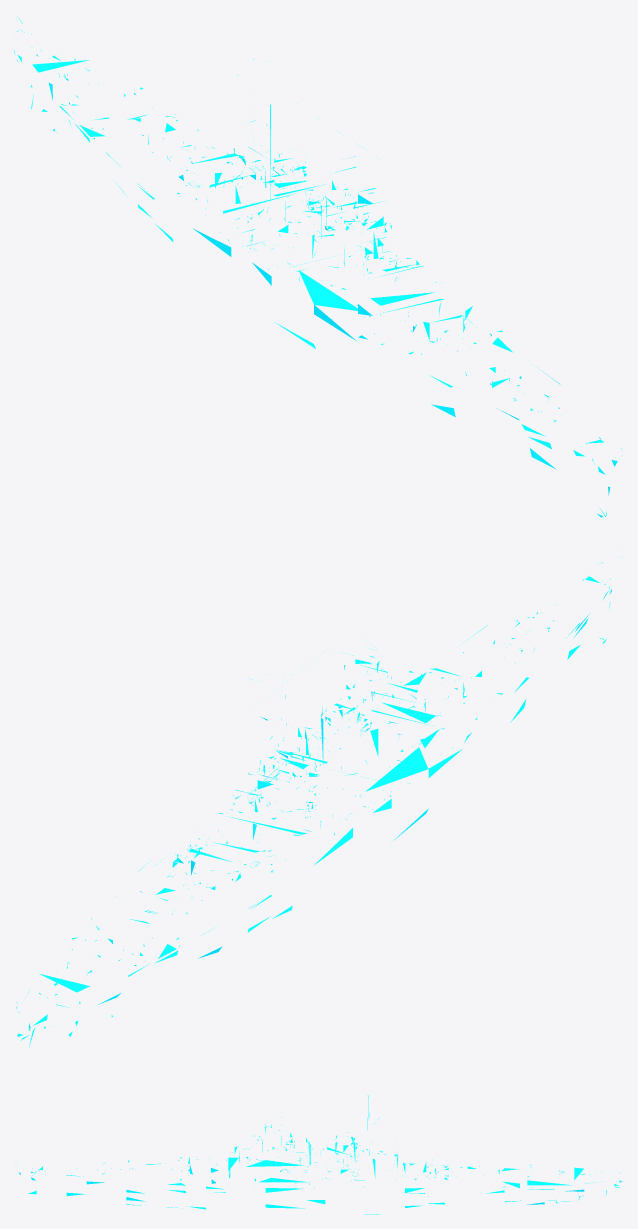
The model's file is Pinata_Schliefen.glb.
3 renders of one model, top to bottom at view 1: azimuth 30°, elevation 25°; view 2: azimuth 150°, elevation 25°; view 3: azimuth 270°, elevation 25°, orthographic. The views are drawn at different scales.
Bounding box in the file's own units: 2.27 × 3.83 × 18.79.
